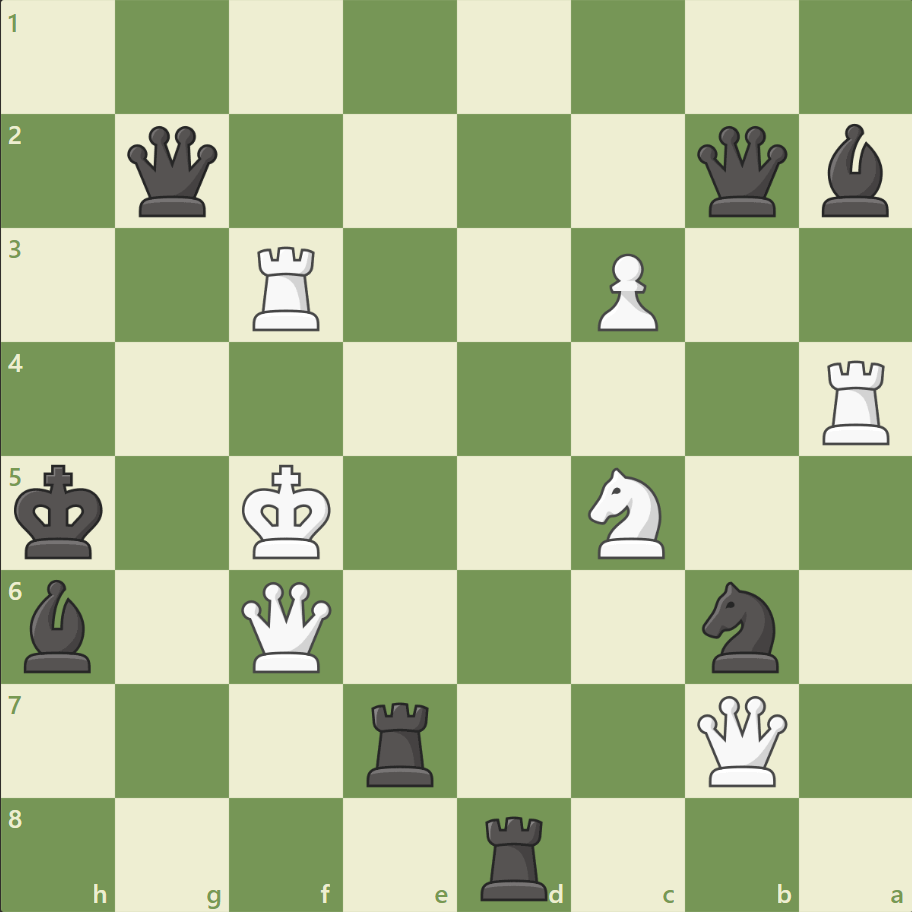K: (238, 458, 338, 566)
N: (579, 461, 676, 564)
P: (588, 246, 662, 337)
Q: (237, 576, 336, 676), (691, 690, 790, 789)
R: (814, 352, 897, 449), (246, 239, 329, 336)
b: (17, 574, 101, 676), (812, 120, 896, 222)
k: (11, 458, 111, 566)
n: (692, 575, 789, 677)
q: (691, 122, 790, 222), (124, 122, 223, 222)
r: (473, 806, 556, 904), (360, 693, 442, 790)
